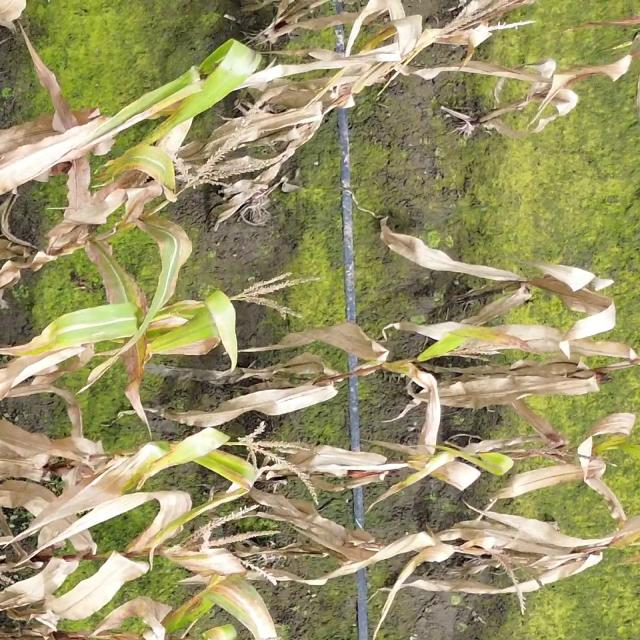northern-leaf-blight: (169, 437, 271, 527), (35, 307, 144, 348)
